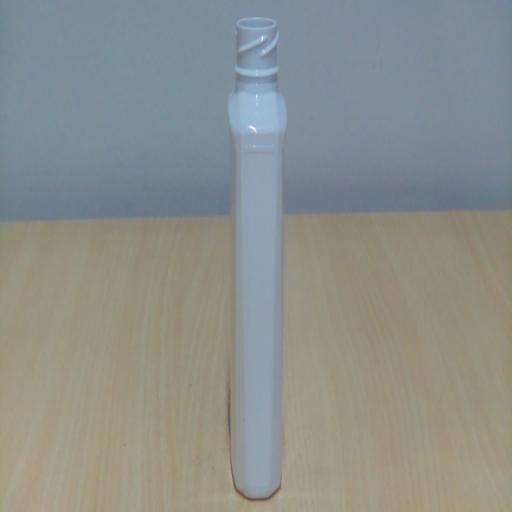Good: (216, 7, 299, 508)
